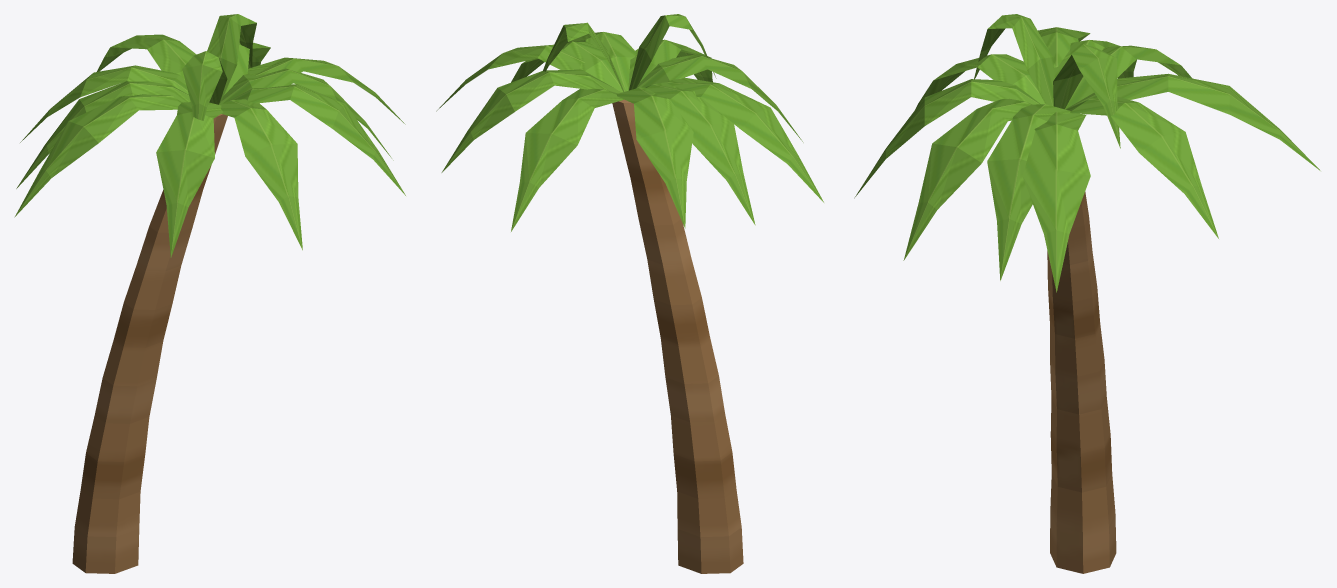
File: palm.glb
3 views of the same model, side by side, from view 1: azimuth 30°, elevation 25°; view 2: azimuth 150°, elevation 25°; view 3: azimuth 270°, elevation 25° (orthographic). The views are drawn at different scales.
Visible parts, largest first — view 1: beach_palm; view 2: beach_palm; view 3: beach_palm.
Boxes of the visible parts, x1,y1,x2,y2 form: beach_palm: (14,14,405,573); beach_palm: (436,14,823,573); beach_palm: (854,14,1320,573).
Size of the model in its own units: 4.8 by 6 by 4.4.
Materials: 2 (2 with a texture image).
